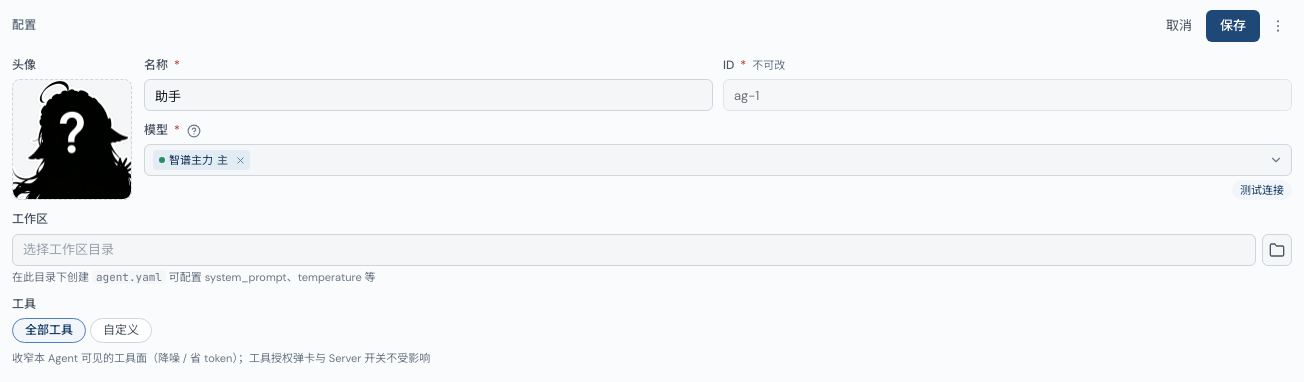
Test: AgentForm 新建态双入口（引用默认 / 手动档） › 链路测试（④）：全链失败红字透出最后错误
This screenshot has width=1304, height=382.
Click the button with class "conn-btn": (1262, 190) [1232, 180, 1292, 200]
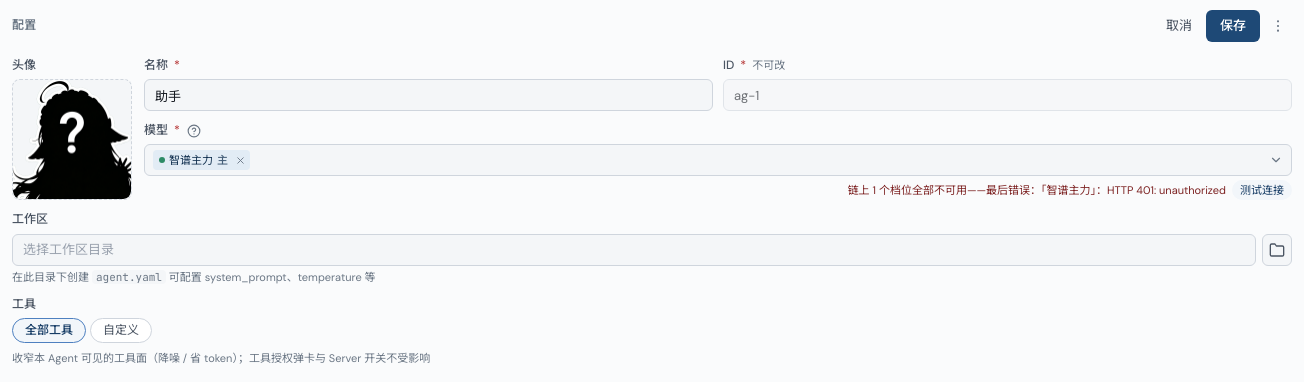
Result: the text with class "conn-err" shows "401" at [848, 183, 1226, 197]
